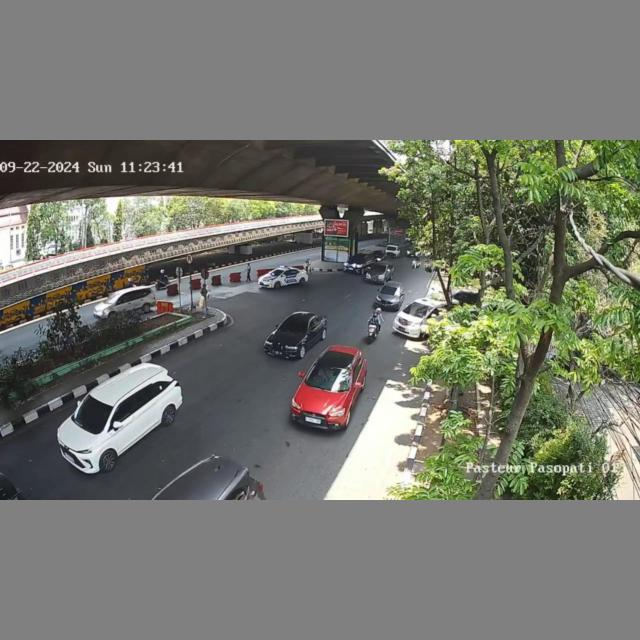windshield: (69, 396, 115, 431), (303, 362, 350, 392), (277, 318, 309, 336), (403, 300, 433, 316), (380, 284, 401, 296)
